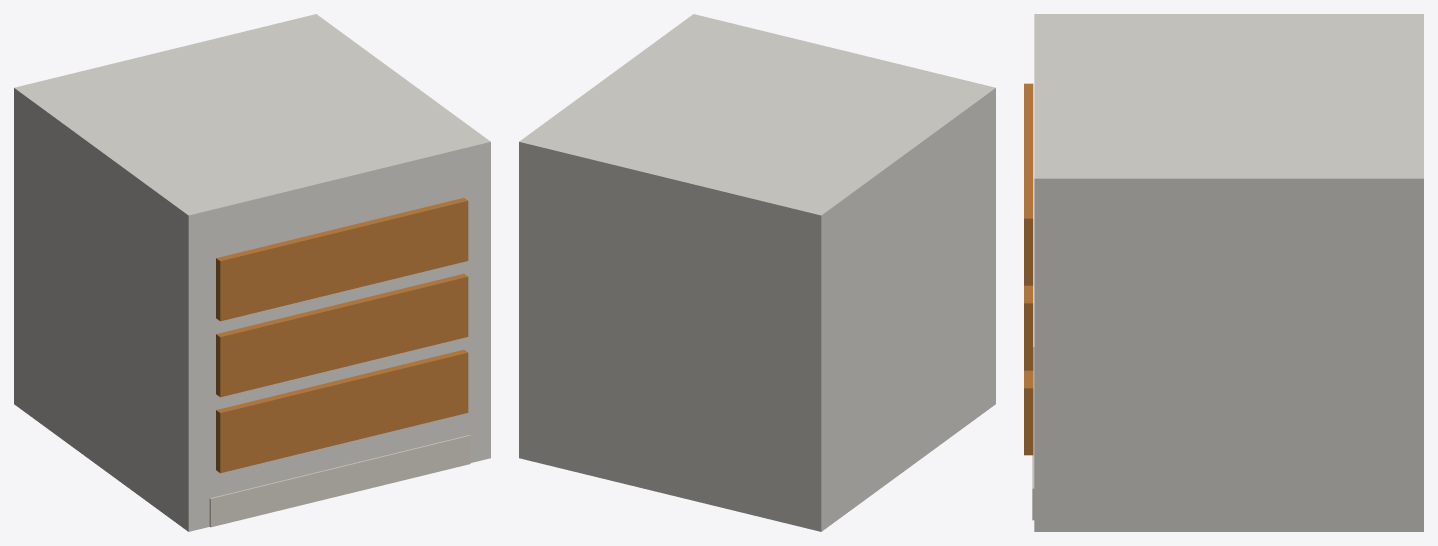
File: flatBaseHandlelessDrawer.glb
3 views of the same model, side by side, from view 1: azimuth 30°, elevation 25°; view 2: azimuth 150°, elevation 25°; view 3: azimuth 270°, elevation 25° (orthographic). The views are drawn at different scales.
Visible parts, largest first — view 1: body, drawer3, drawer1, drawer2, toeKick; view 2: body; view 3: body, drawer1, drawer2, drawer3.
Boxes of the visible parts, x1,y1,x2,y2 form: body: (14, 14, 490, 531); drawer3: (216, 349, 468, 473); drawer1: (216, 198, 468, 321); drawer2: (216, 273, 468, 397); toeKick: (209, 435, 470, 527); body: (519, 14, 995, 531); body: (1034, 14, 1423, 531); drawer1: (1024, 83, 1033, 285); drawer2: (1024, 285, 1033, 370); drawer3: (1024, 370, 1033, 455).
Bounding box in the file's own units: 1 × 1 × 1.03.
